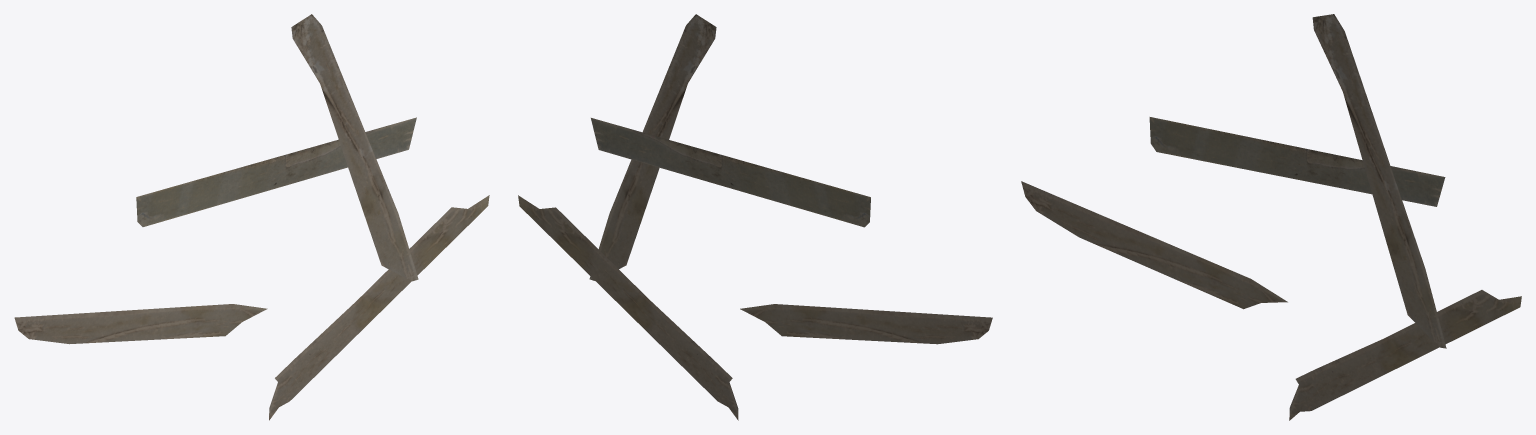
File: SM_Broken_Tape_02.fbx
3 renders of one model, left to right at view 1: azimuth 30°, elevation 25°; view 2: azimuth 150°, elevation 25°; view 3: azimuth 330°, elevation 25°, orthographic. The views are drawn at different scales.
Parts seen in each view (by area): view 1: SM_Broken_Tape_02; view 2: SM_Broken_Tape_02; view 3: SM_Broken_Tape_02.
Boxes of the visible parts, box(x1,y1,x2,y2) form: SM_Broken_Tape_02: box(14, 14, 489, 420); SM_Broken_Tape_02: box(518, 14, 992, 420); SM_Broken_Tape_02: box(1021, 14, 1521, 420).
Size of the model in its own units: 134 by 107 by 0.1.
1 material, 1 textured.
